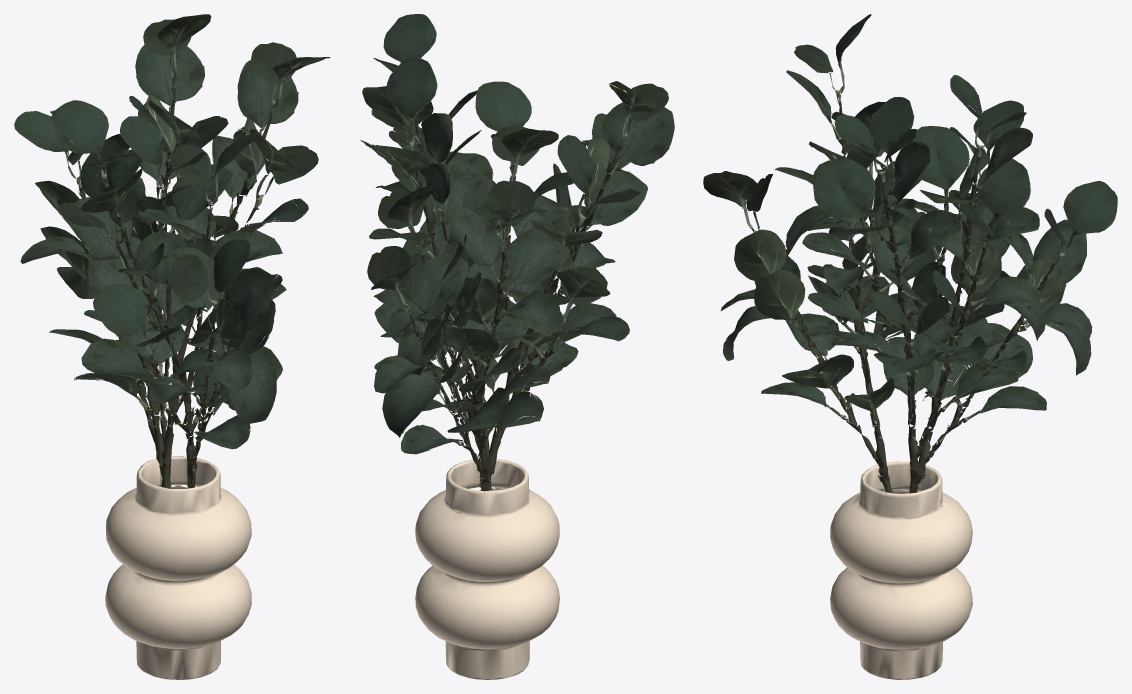
3 views of the same model, side by side, from view 1: azimuth 30°, elevation 25°; view 2: azimuth 150°, elevation 25°; view 3: azimuth 270°, elevation 25° (orthographic). The views are drawn at different scales.
Parts seen in each view (by area): view 1: smycka-eucalyptus.002, parlhagg-vase-22.001, smycka-eucalyptus.003, smycka-eucalyptus.001; view 2: smycka-eucalyptus.001, parlhagg-vase-22.001, smycka-eucalyptus.002, smycka-eucalyptus.003; view 3: smycka-eucalyptus.003, smycka-eucalyptus.001, parlhagg-vase-22.001, smycka-eucalyptus.002.
Boxes of the visible parts, x1,y1,x2,y2 form: smycka-eucalyptus.002: (51, 100, 282, 488); parlhagg-vase-22.001: (105, 456, 251, 679); smycka-eucalyptus.003: (84, 42, 330, 488); smycka-eucalyptus.001: (14, 14, 228, 488); smycka-eucalyptus.001: (360, 57, 569, 491); parlhagg-vase-22.001: (415, 459, 559, 679); smycka-eucalyptus.002: (469, 81, 674, 490); smycka-eucalyptus.003: (362, 14, 573, 490); smycka-eucalyptus.003: (802, 97, 1045, 490); smycka-eucalyptus.001: (870, 75, 1117, 493); parlhagg-vase-22.001: (830, 461, 972, 679); smycka-eucalyptus.002: (703, 14, 942, 493).
Size of the model in its own units: 0.3182 by 0.6927 by 0.4308.
3 materials, 3 textured.
